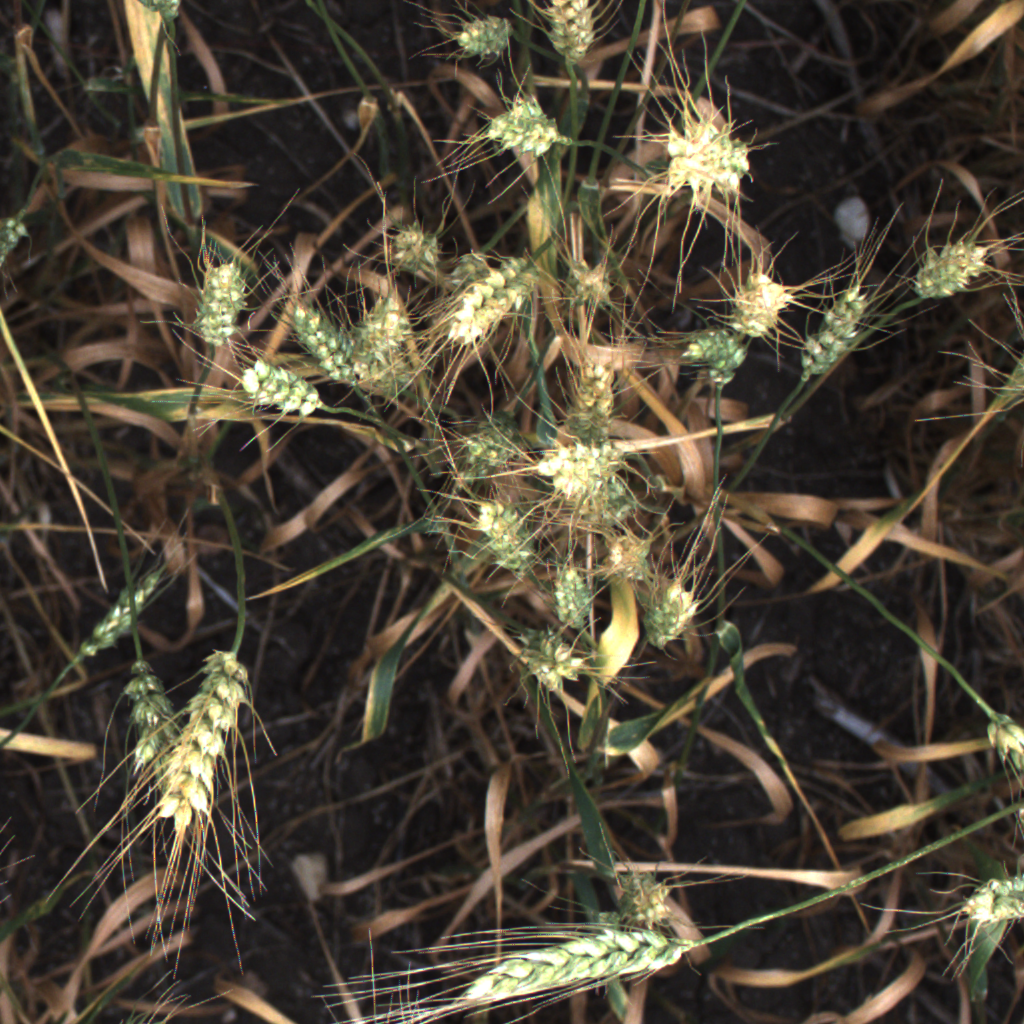wheat_head: (432, 918, 710, 1013), (150, 643, 264, 845), (114, 656, 204, 839), (424, 245, 551, 365), (590, 530, 704, 660), (651, 106, 770, 226), (66, 550, 183, 669), (266, 282, 372, 398), (167, 231, 261, 357), (791, 272, 884, 389), (468, 80, 574, 170), (725, 254, 818, 347), (899, 229, 1002, 311), (667, 324, 772, 403), (219, 357, 338, 426), (524, 437, 641, 503), (525, 0, 615, 82), (459, 496, 542, 583), (341, 281, 418, 373), (562, 348, 637, 440), (512, 623, 584, 709), (949, 864, 1024, 943), (367, 210, 454, 278), (445, 399, 522, 475), (609, 866, 696, 933), (561, 235, 628, 322), (437, 3, 524, 69), (546, 553, 600, 629), (981, 696, 1024, 787), (0, 190, 40, 283), (590, 481, 648, 527)
